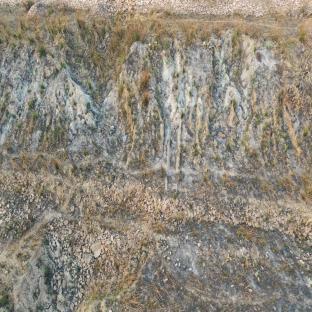rock_toe: (11, 167, 311, 312)
